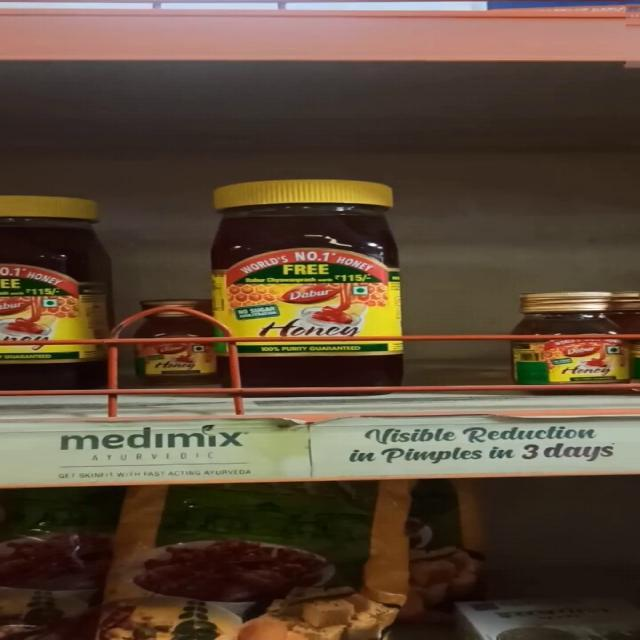Dabur Honey: (201, 173, 412, 404), (515, 286, 640, 396)
